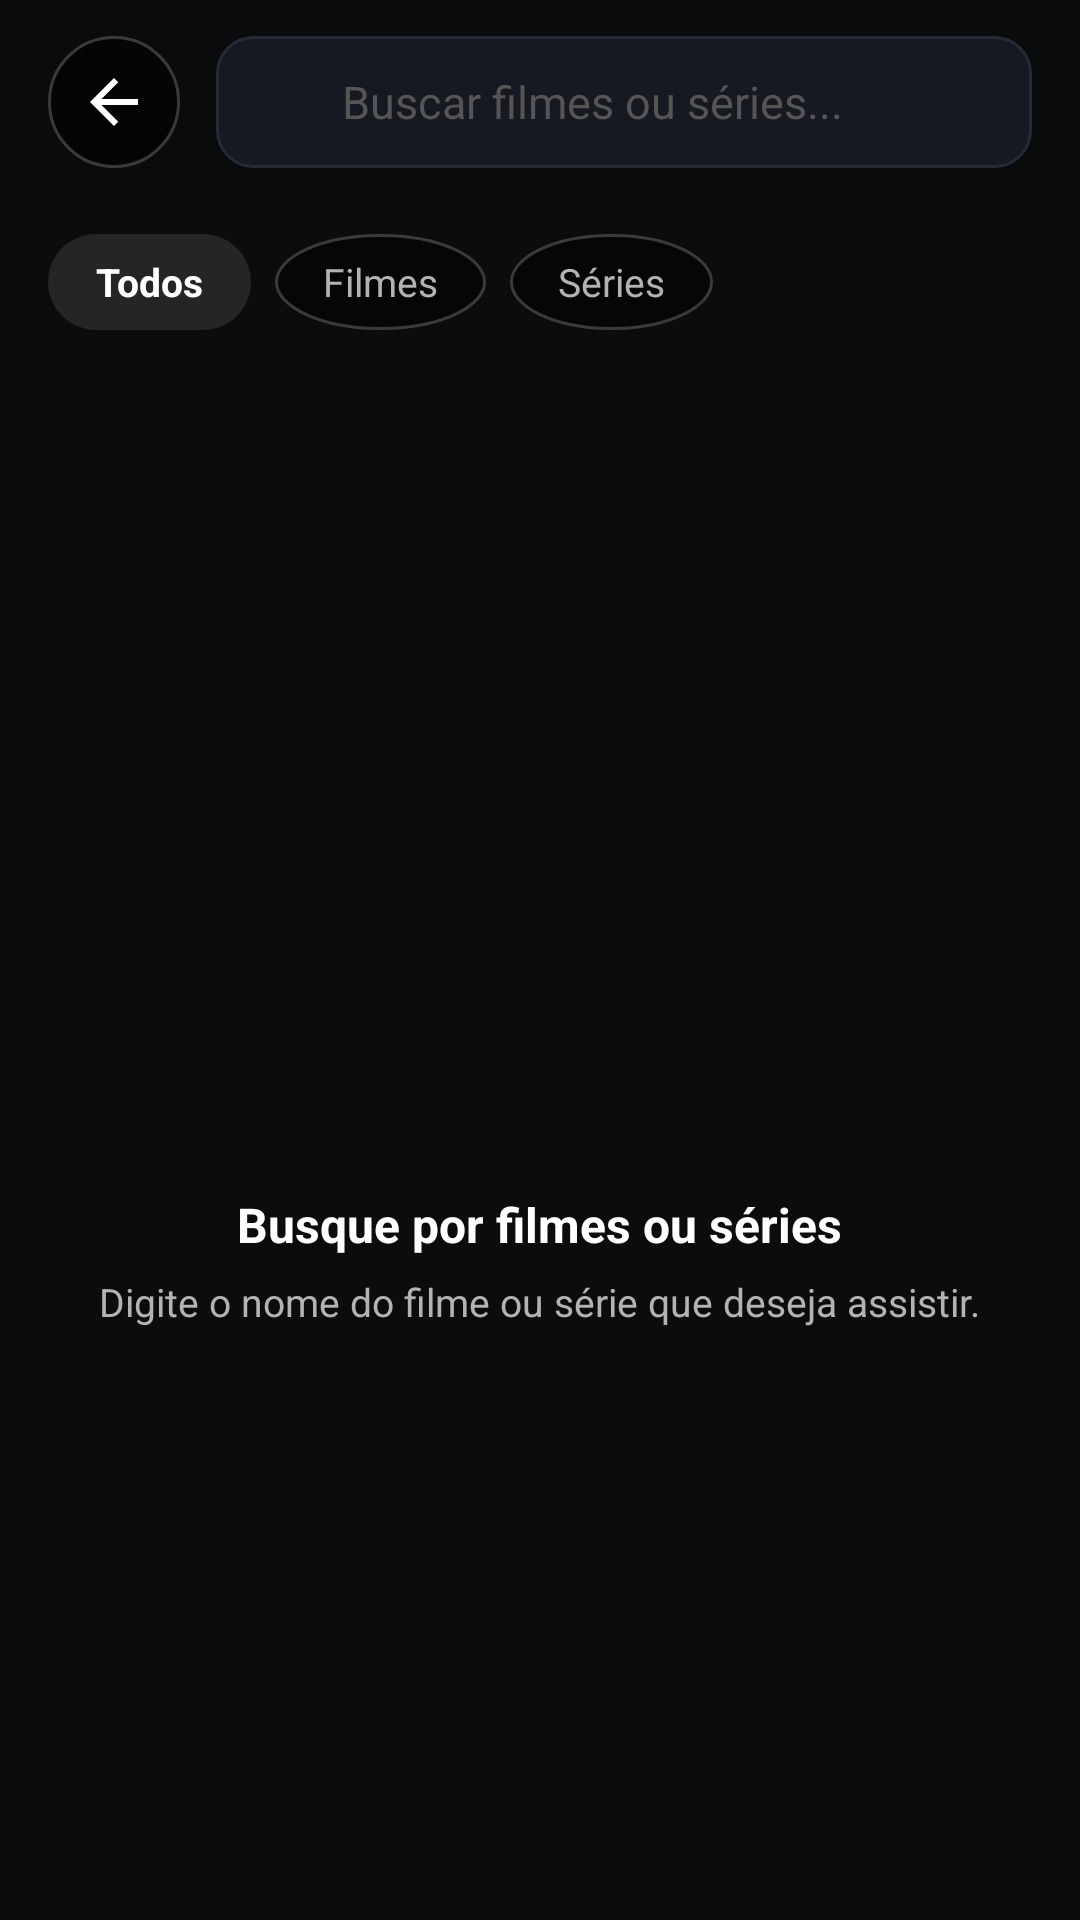

Locate icon controls on the screen. Image size 1080 x 1920, boxes as (x1, y1, x2, y2).
Voltar: (48, 36, 180, 168)
